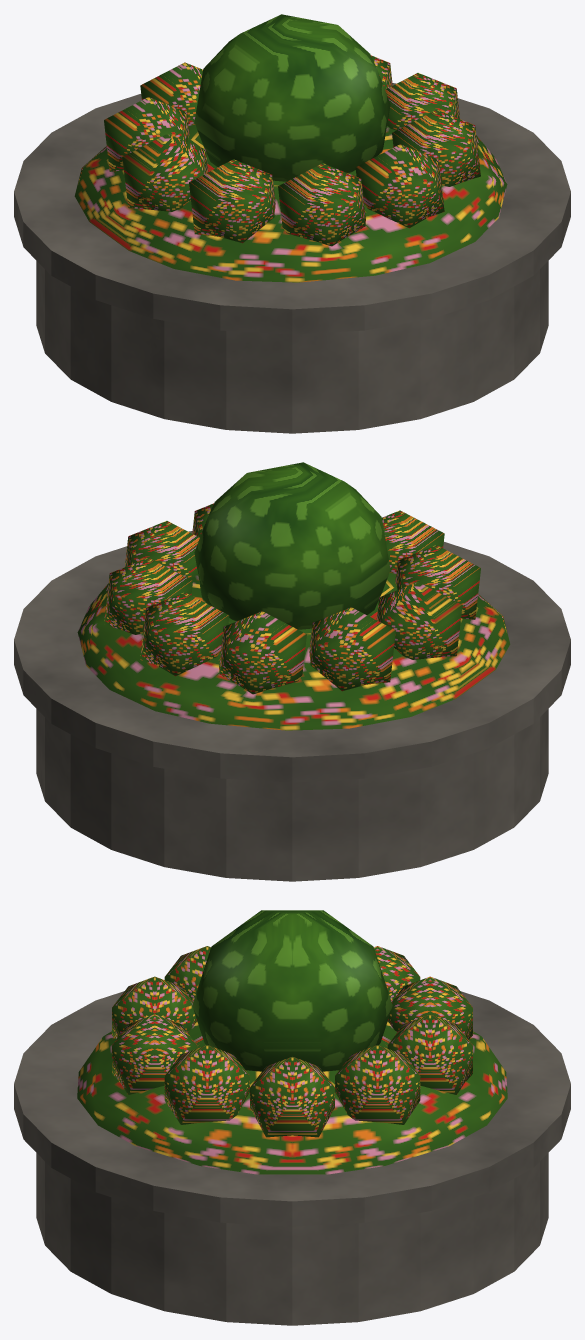
File: aa_planter.fbx
3 views of the same model, one above another, from view 1: azimuth 30°, elevation 25°; view 2: azimuth 150°, elevation 25°; view 3: azimuth 270°, elevation 25° (orthographic).
Visible parts, largest first — view 1: Asset_Planter_Stone, Asset_Planter_Flowers; view 2: Asset_Planter_Stone, Asset_Planter_Flowers; view 3: Asset_Planter_Stone, Asset_Planter_Flowers.
Boxes of the visible parts, x1=… form: Asset_Planter_Stone: x1=14, y1=83, x2=570, y2=433; Asset_Planter_Flowers: x1=74, y1=14, x2=507, y2=282; Asset_Planter_Stone: x1=14, y1=531, x2=570, y2=881; Asset_Planter_Flowers: x1=77, y1=462, x2=510, y2=730; Asset_Planter_Stone: x1=14, y1=991, x2=570, y2=1325; Asset_Planter_Flowers: x1=77, y1=910, x2=507, y2=1174.
Bounding box in the file's own units: 5 × 3 × 5.
2 materials, 2 textured.
